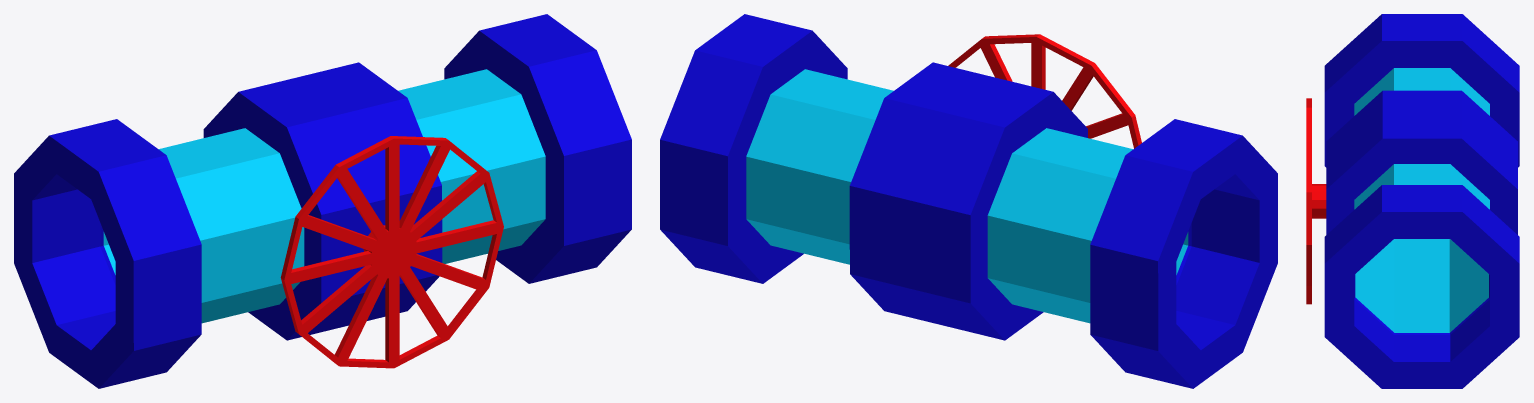
Rendered from pipes 6.0.fbx.
The picture shows the model from 3 angles, left to right: view 1: azimuth 30°, elevation 25°; view 2: azimuth 150°, elevation 25°; view 3: azimuth 270°, elevation 25°; orthographic projection. The views are drawn at different scales.
Parts seen in each view (by area): view 1: pipe 4; view 2: pipe 4; view 3: pipe 4.
Boxes of the visible parts, x1,y1,x2,y2 form: pipe 4: [14, 14, 631, 388]; pipe 4: [660, 14, 1277, 388]; pipe 4: [1306, 14, 1519, 388].
Size of the model in its own units: 82.25 by 36.28 by 37.49.
